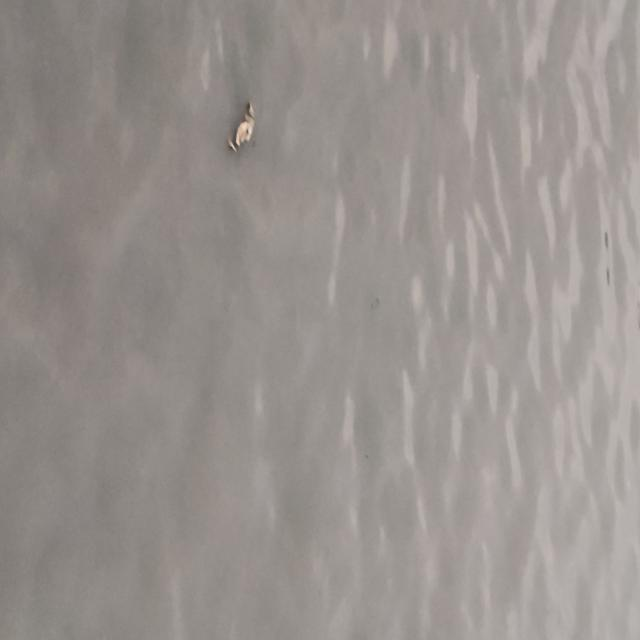Organic Debris: (226, 99, 259, 158)
